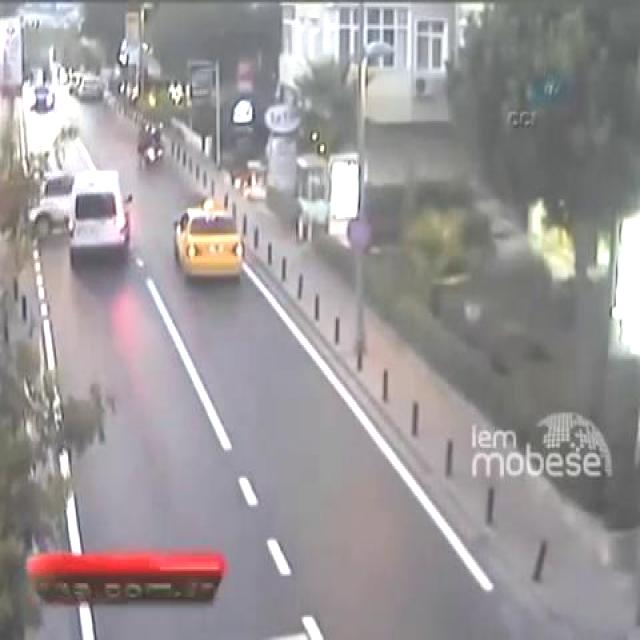accident: (19, 168, 132, 270)
non-accident: (68, 70, 105, 104)
